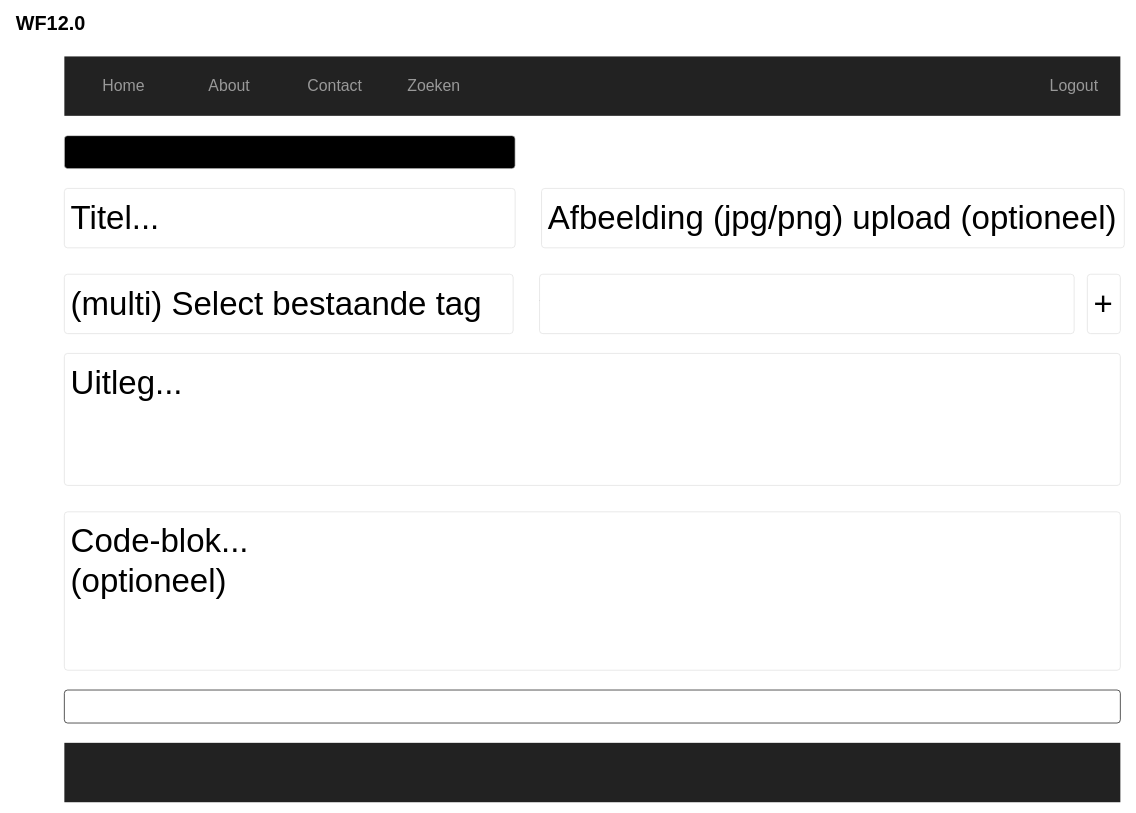
Some shapes in this 1136 by 813 pixel diagram are drawn without their labels. The shapes that lost their labels are listed below. From the top down, each one's centre as x and y in pixels, then its label:
the point at 806,304: Create new tag
the point at 592,706: Verstuur
the point at 592,772: Footer tekst
